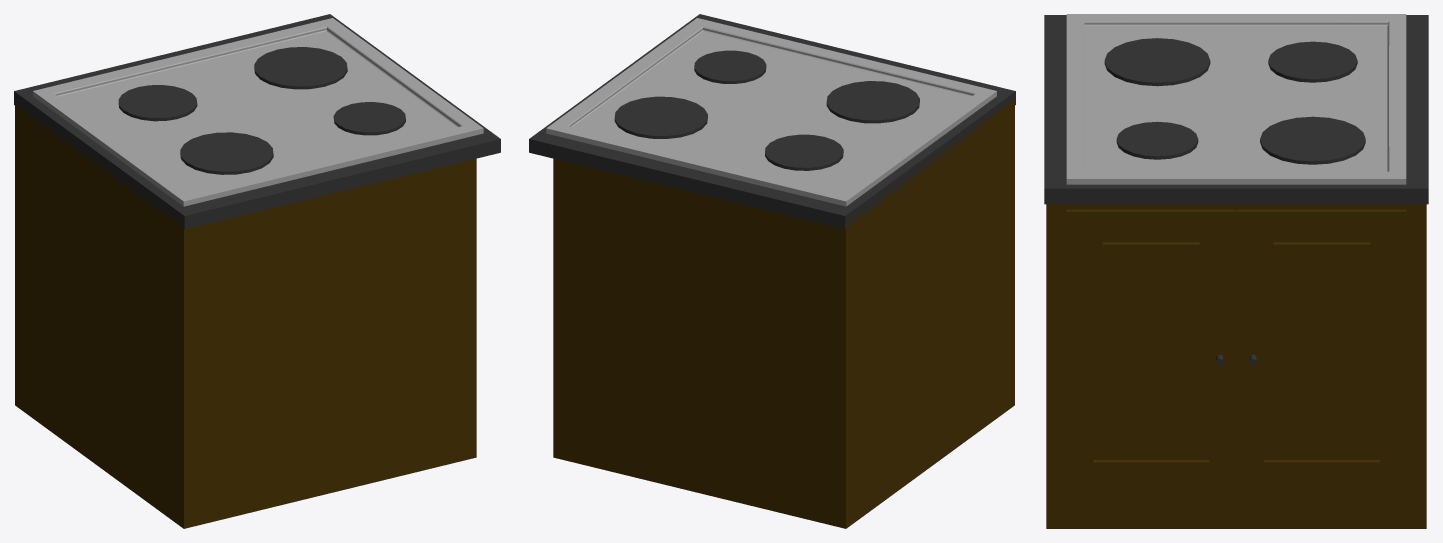
File: stove.fbx
3 views of the same model, side by side, from view 1: azimuth 30°, elevation 25°; view 2: azimuth 150°, elevation 25°; view 3: azimuth 270°, elevation 25° (orthographic). The views are drawn at different scales.
Parts seen in each view (by area): view 1: pCube1, pCube3, pCube2, pCylinder4, pCylinder2, pCylinder3, pCylinder1; view 2: pCube1, pCube3, pCube2, pCylinder4, pCylinder2, pCylinder3, pCylinder1; view 3: polySurface3, pCube3, pCube1, pCube2, pCylinder2, pCylinder4, pCylinder3, pCylinder1.
Boxes of the visible parts, x1,y1,x2,y2 form: pCube1: [15, 100, 476, 528]; pCube3: [33, 18, 483, 206]; pCube2: [14, 14, 500, 229]; pCylinder4: [180, 132, 273, 174]; pCylinder2: [254, 47, 347, 89]; pCylinder3: [118, 85, 197, 121]; pCylinder1: [333, 102, 405, 135]; pCube1: [553, 99, 1014, 528]; pCube3: [546, 18, 996, 206]; pCube2: [529, 14, 1015, 229]; pCylinder4: [826, 81, 919, 123]; pCylinder2: [614, 96, 707, 138]; pCylinder3: [765, 134, 843, 170]; pCylinder1: [694, 50, 766, 83]; polySurface3: [1066, 209, 1406, 486]; pCube3: [1066, 14, 1406, 184]; pCube1: [1046, 204, 1426, 528]; pCube2: [1044, 15, 1428, 204]; pCylinder2: [1260, 116, 1365, 164]; pCylinder4: [1104, 38, 1210, 86]; pCylinder3: [1268, 41, 1357, 82]; pCylinder1: [1116, 121, 1198, 159].
Size of the model in its own units: 4.54 by 4.37 by 4.24.
